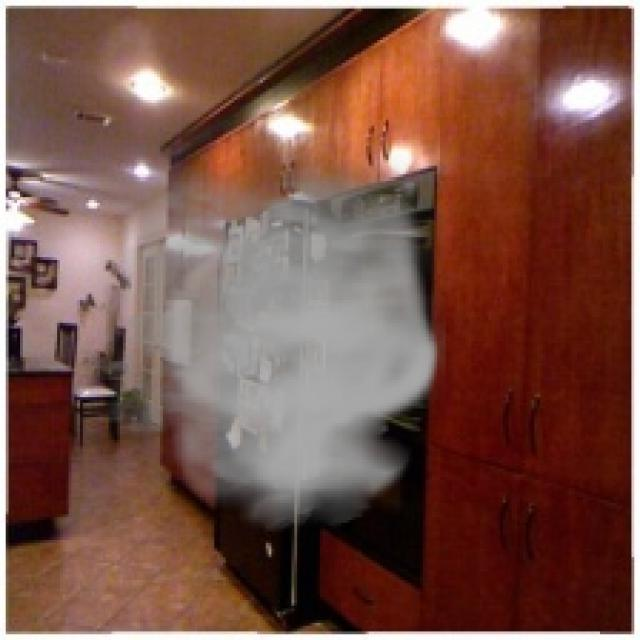smoke: (57, 143, 446, 531)
